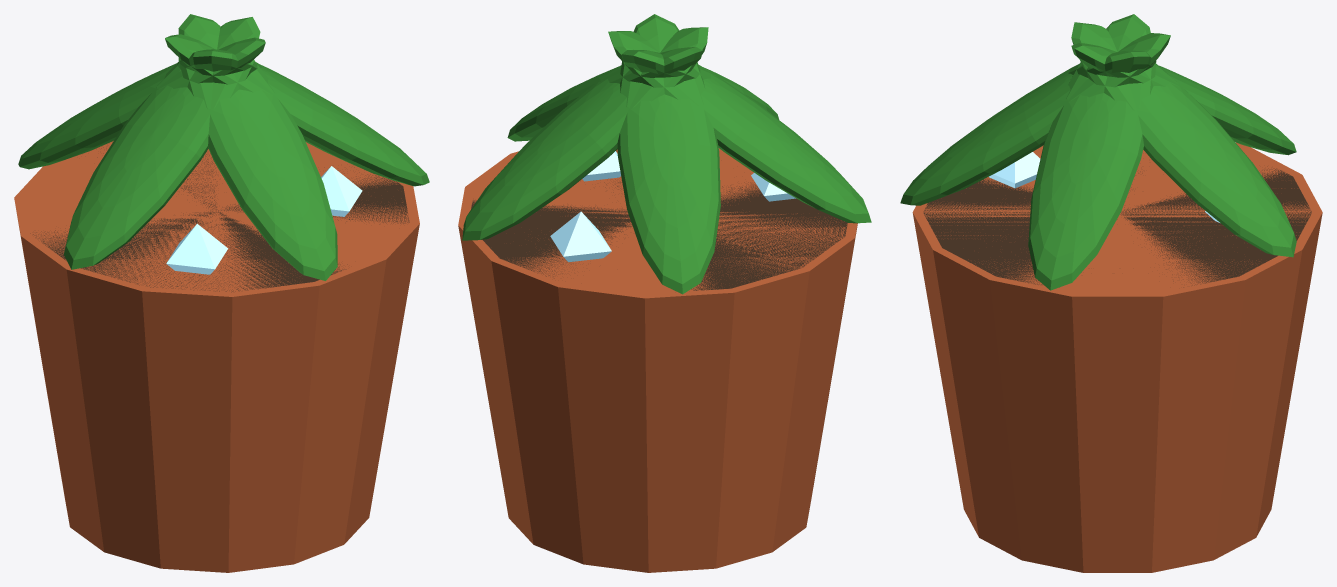
The model's file is diamond_pot.glb.
3 renders of one model, left to right at view 1: azimuth 30°, elevation 25°; view 2: azimuth 150°, elevation 25°; view 3: azimuth 270°, elevation 25°, orthographic.
Visible parts, largest first — view 1: pot_pot_terracotta, frond_plant_leaf (×5), soil_pot_soil, gem_diamond_gem; view 2: pot_pot_terracotta, frond_plant_leaf (×5), soil_pot_soil, gem_diamond_gem; view 3: pot_pot_terracotta, frond_plant_leaf (×5), soil_pot_soil, gem_diamond_gem.
Part boxes in pixels (x1,y1,x2,y2): pot_pot_terracotta: (14,141,419,572); frond_plant_leaf (×5): (18,14,429,280); soil_pot_soil: (30,147,409,292); gem_diamond_gem: (166,166,362,274); pot_pot_terracotta: (458,148,857,572); frond_plant_leaf (×5): (462,14,871,294); soil_pot_soil: (471,151,847,290); gem_diamond_gem: (550,151,795,262); pot_pot_terracotta: (912,142,1322,572); frond_plant_leaf (×5): (900,14,1296,290); soil_pot_soil: (923,166,1311,287); gem_diamond_gem: (989,152,1219,222).
Bounding box in the file's own units: 0.4034 × 0.511 × 0.4121.
